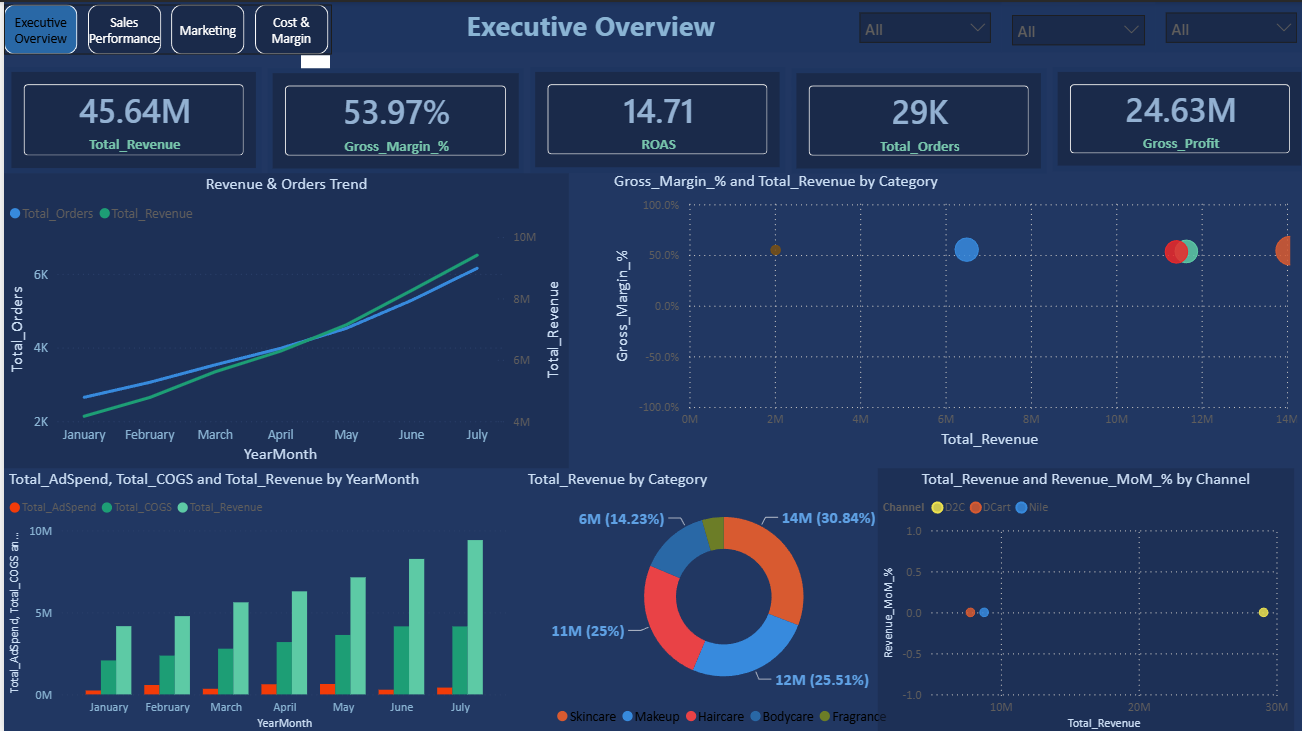

The dashboard page shown, as its layout file describes it:
{"tool":"powerbi","page":{"name":"Executive Overview","canvas":[1280,720],"ordinal":0},"visuals":[{"type":"cardVisual","fields":{"Data":["fact_sales.Total_Orders"]},"box":[773,64.6,250,103],"z":0},{"type":"cardVisual","fields":{"Data":["fact_sales.Total_Revenue"]},"box":[2.5,63.8,250.3,104.3],"z":1000},{"type":"cardVisual","fields":{"Data":["fact_sales.Gross_Profit"]},"box":[1029.4,64.2,250.6,102.4],"z":2000},{"type":"textbox","box":[320.9,0,509.1,49.5],"z":3000},{"type":"slicer","fields":{"Values":["Dim_Date.Date.Variation.Date Hierarchy.Year"]},"box":[830,0,149.6,49.5],"z":4000},{"type":"slicer","fields":{"Values":["Dim_Month.YearMonth"]},"box":[979.6,2.4,150.8,47.1],"z":5000},{"type":"slicer","fields":{"Values":["Dim_Category.Category"]},"box":[1130.4,0,149.6,49.5],"z":6000},{"type":"pageNavigator","box":[0,2.4,320.9,49.5],"z":7000},{"type":"cardVisual","fields":{"Data":["fact_sales.Gross_Margin_%"]},"box":[258.9,65,251.5,103.1],"z":8000},{"type":"cardVisual","fields":{"Data":["Ad_Campaign_Data.ROAS"]},"box":[516.5,64.2,250,103.7],"z":9000},{"type":"lineChart","title":"Revenue & Orders Trend","fields":{"Y":["fact_sales.Total_Orders"],"Y2":["fact_sales.Total_Revenue"],"Category":["Dim_Month.YearMonth"]},"box":[0,168.1,554.6,289.6],"z":10000},{"type":"clusteredColumnChart","fields":{"Category":["Dim_Month.YearMonth"],"Y":["Ad_Campaign_Data.Total_AdSpend","fact_sales.Total_COGS","fact_sales.Total_Revenue"]},"box":[0,457.7,499.4,262.6],"z":12000},{"type":"donutChart","fields":{"Category":["Dim_Category.Category"],"Y":["fact_sales.Total_Revenue"]},"box":[509.2,457.7,395.1,262.6],"z":13000},{"type":"scatterChart","title":"Gross_Margin_% and Total_Revenue by Category","fields":{"X":["fact_sales.Total_Revenue"],"Y":["fact_sales.Gross_Margin_%"],"Category":["fact_sales.Category"],"Size":["CountNonNull(fact_sales.Category)"]},"box":[593.9,165.6,685.9,277.3],"z":14000},{"type":"scatterChart","fields":{"X":["fact_sales.Total_Revenue"],"Y":["Ad_Campaign_Data.Revenue_MoM_%"],"Series":["fact_sales.Channel"]},"box":[857.7,457.7,408.6,262.6],"z":15001}]}

Visuals, with their boxes in screenshot pixels (x1, y1, x2, y2), scaled from the page's 1280x720 canvas onto the 1302x731 screenshot:
cardVisual - fact_sales.Total_Orders: locate(786, 66, 1041, 170)
cardVisual - fact_sales.Total_Revenue: locate(3, 65, 257, 171)
cardVisual - fact_sales.Gross_Profit: locate(1047, 65, 1301, 169)
textbox: locate(326, 0, 844, 50)
slicer - Dim_Date.Date.Variation.Date Hierarchy.Year: locate(844, 0, 996, 50)
slicer - Dim_Month.YearMonth: locate(996, 2, 1150, 50)
slicer - Dim_Category.Category: locate(1150, 0, 1301, 50)
pageNavigator: locate(0, 2, 326, 53)
cardVisual - fact_sales.Gross_Margin_%: locate(263, 66, 519, 171)
cardVisual - Ad_Campaign_Data.ROAS: locate(525, 65, 780, 170)
"Revenue & Orders Trend" lineChart: locate(0, 171, 564, 465)
clusteredColumnChart - Dim_Month.YearMonth x Ad_Campaign_Data.Total_AdSpend: locate(0, 465, 508, 730)
donutChart - Dim_Category.Category x fact_sales.Total_Revenue: locate(518, 465, 920, 730)
"Gross_Margin_% and Total_Revenue by Category" scatterChart: locate(604, 168, 1301, 450)
scatterChart - fact_sales.Total_Revenue x Ad_Campaign_Data.Revenue_MoM_%: locate(872, 465, 1288, 730)
